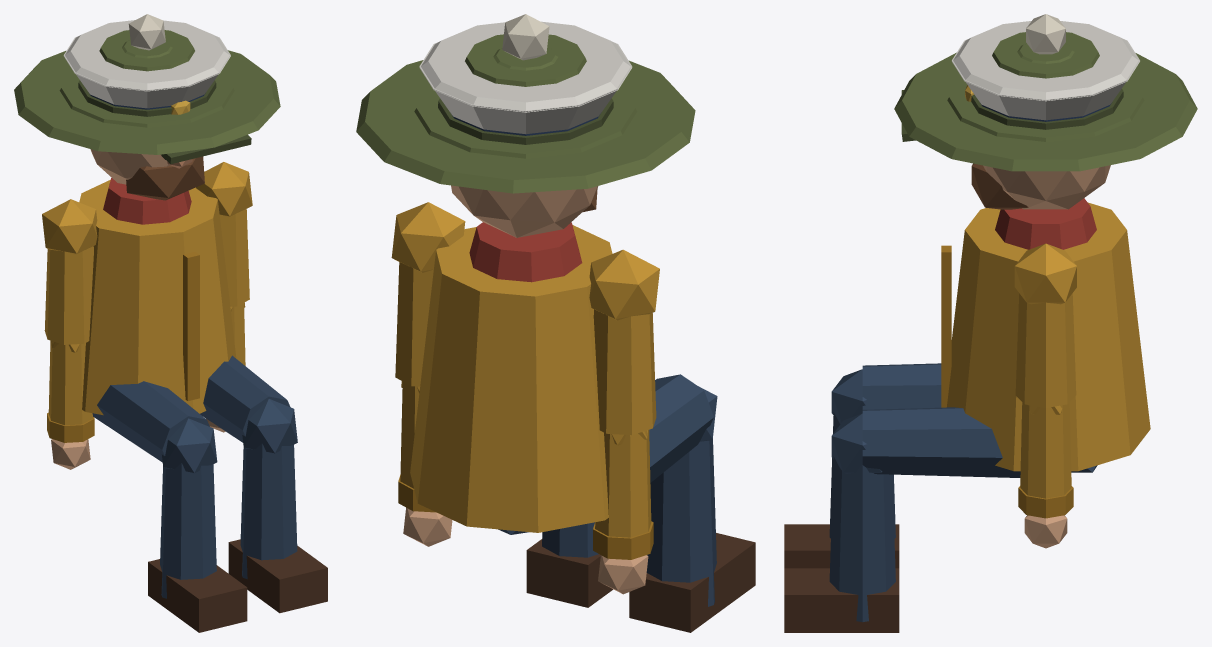
File: fisher.glb
The picture shows the model from 3 angles, left to right: view 1: azimuth 30°, elevation 25°; view 2: azimuth 150°, elevation 25°; view 3: azimuth 270°, elevation 25°; orthographic projection. The views are drawn at different scales.
Visible parts, largest first — view 1: fisher, fisher_torso, skin_hat_straw, skin_hat_captain, fisher_arm_r, skin_hat_bob, fisher_forearm_r, fisher_arm_l, fisher_head, skin_hat_beanie, skin_hat_cap, fisher_forearm_l; view 2: fisher_torso, fisher, skin_hat_straw, skin_hat_captain, fisher_arm_r, skin_hat_bob, fisher_forearm_r, fisher_arm_l, fisher_head, skin_hat_beanie, fisher_forearm_l; view 3: fisher_torso, fisher, skin_hat_straw, skin_hat_captain, fisher_arm_l, fisher_forearm_l, skin_hat_bob, fisher_head, skin_hat_beanie.
Boxes of the visible parts, x1=… form: fisher: x1=92, y1=355, x2=327, y2=632; fisher_torso: x1=79, y1=177, x2=236, y2=415; skin_hat_straw: x1=14, y1=50, x2=280, y2=154; skin_hat_captain: x1=63, y1=20, x2=230, y2=159; fisher_arm_r: x1=42, y1=199, x2=97, y2=344; skin_hat_bob: x1=59, y1=30, x2=234, y2=127; fisher_forearm_r: x1=47, y1=340, x2=94, y2=469; fisher_arm_l: x1=196, y1=162, x2=252, y2=306; fisher_head: x1=90, y1=149, x2=204, y2=200; skin_hat_beanie: x1=78, y1=14, x2=216, y2=116; skin_hat_cap: x1=161, y1=134, x2=251, y2=164; fisher_forearm_l: x1=206, y1=302, x2=245, y2=432; fisher_torso: x1=410, y1=222, x2=612, y2=532; fisher: x1=498, y1=374, x2=755, y2=632; skin_hat_straw: x1=356, y1=60, x2=695, y2=193; skin_hat_captain: x1=419, y1=21, x2=632, y2=135; fisher_arm_r: x1=589, y1=249, x2=659, y2=435; skin_hat_bob: x1=414, y1=34, x2=637, y2=158; fisher_forearm_r: x1=593, y1=430, x2=653, y2=594; fisher_arm_l: x1=391, y1=202, x2=465, y2=386; fisher_head: x1=451, y1=185, x2=598, y2=237; skin_hat_beanie: x1=438, y1=14, x2=613, y2=144; fisher_forearm_l: x1=398, y1=381, x2=452, y2=546; fisher_torso: x1=941, y1=198, x2=1150, y2=471; fisher: x1=784, y1=363, x2=1097, y2=632; skin_hat_straw: x1=894, y1=52, x2=1197, y2=171; skin_hat_captain: x1=952, y1=21, x2=1139, y2=121; fisher_arm_l: x1=1014, y1=243, x2=1076, y2=407; fisher_forearm_l: x1=1018, y1=402, x2=1073, y2=548; skin_hat_bob: x1=947, y1=32, x2=1144, y2=141; fisher_head: x1=971, y1=163, x2=1110, y2=209; skin_hat_beanie: x1=971, y1=14, x2=1123, y2=129.
Size of the model in its own units: 0.5655 by 1.23 by 0.79.
